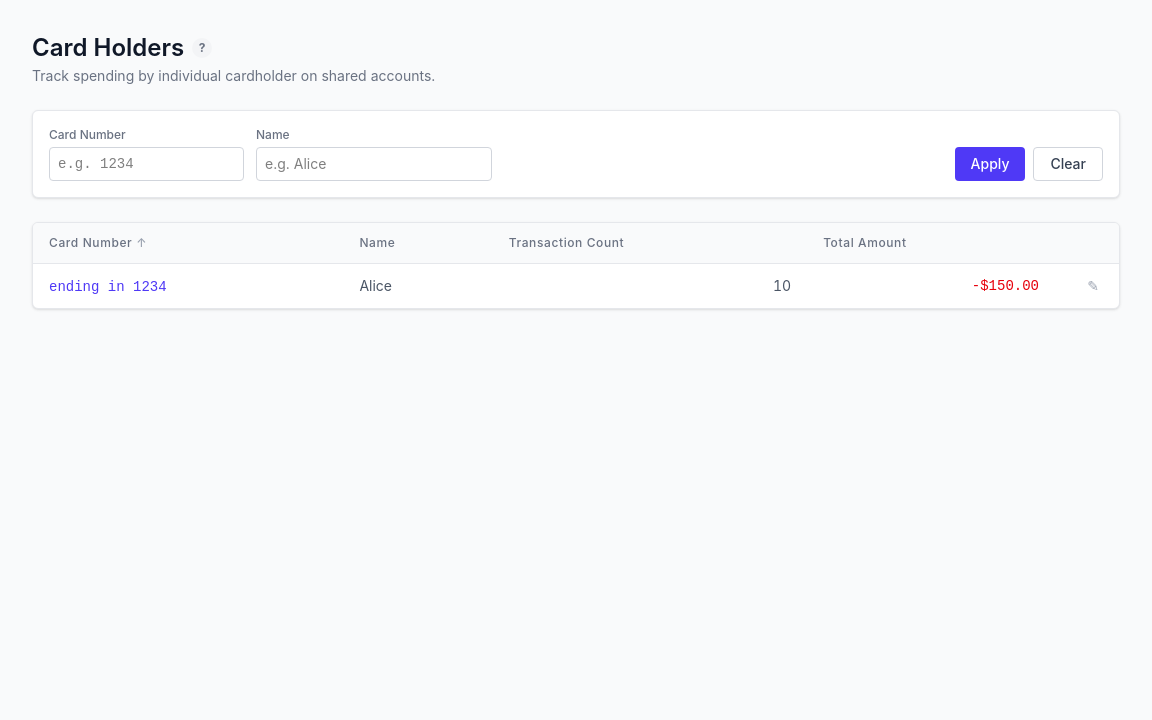
Test: CardHoldersPage › saves cardholder edit and updates row in list
Check: the button "ending in 1234" is shown, box [49,276,167,296]
Click the button titled "Edit card holder" at [1093, 286], box [1083,272,1103,300]
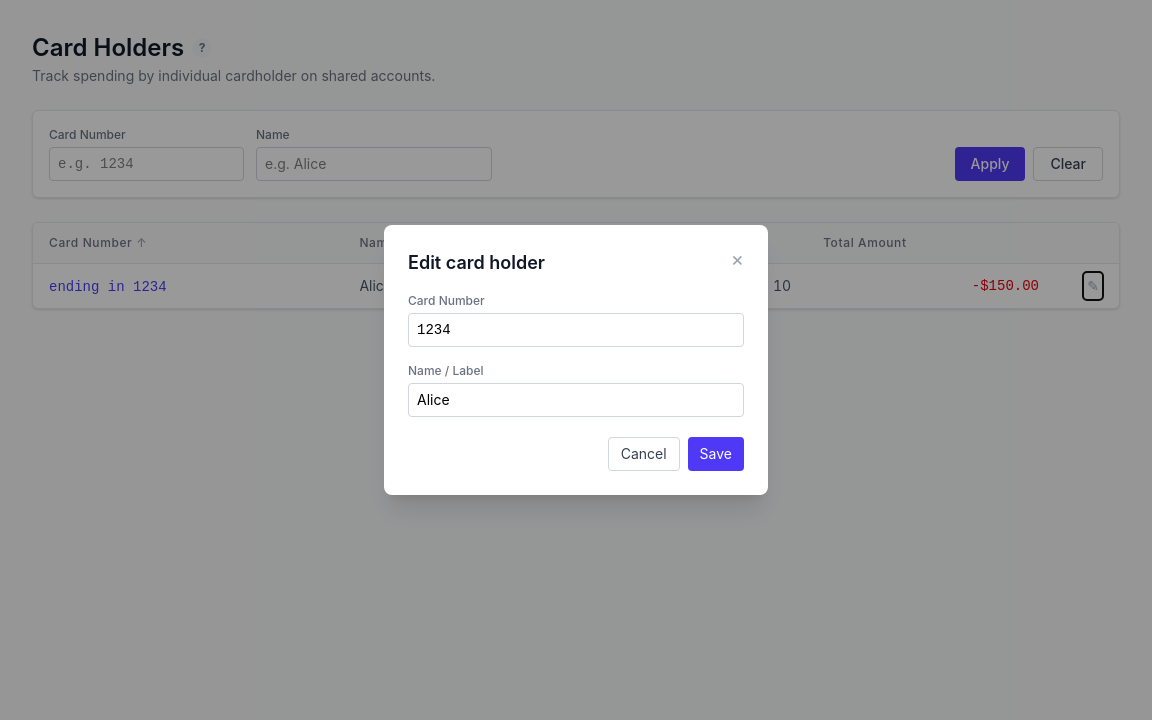
Replace the text in the field showing "Alice" below "Name / Label" with "Bob" at [576, 400], box [408,383,744,417]
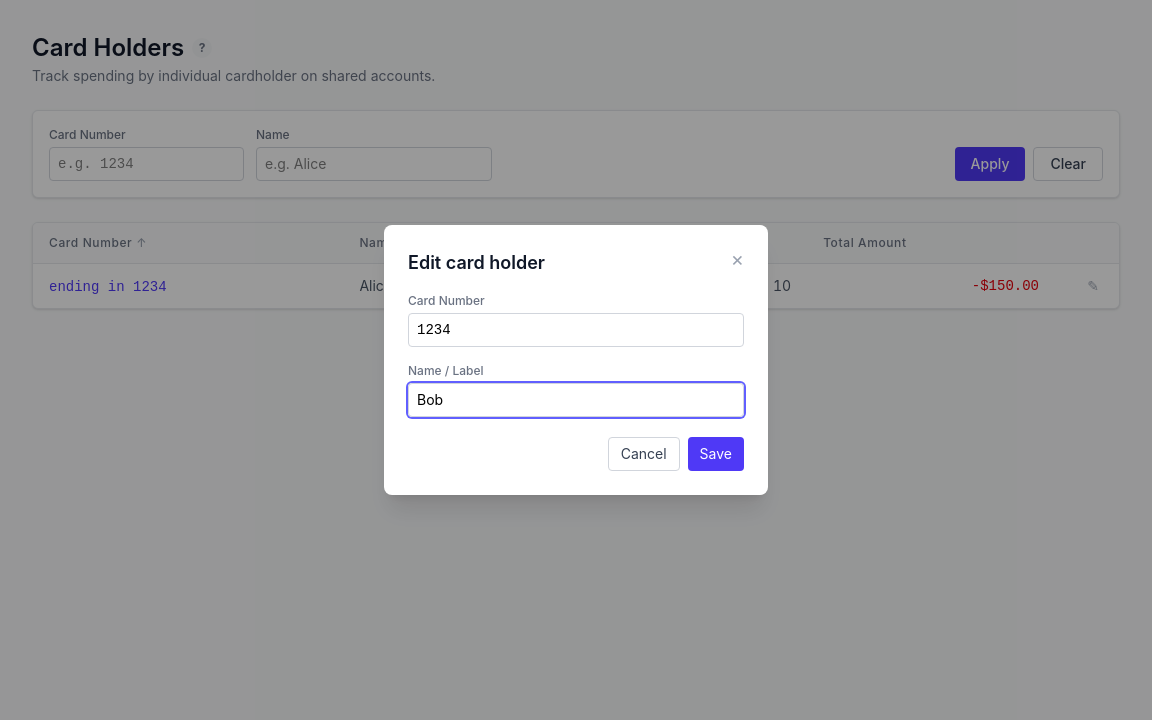
Click the button "Save" at [716, 454], box [688,437,744,471]
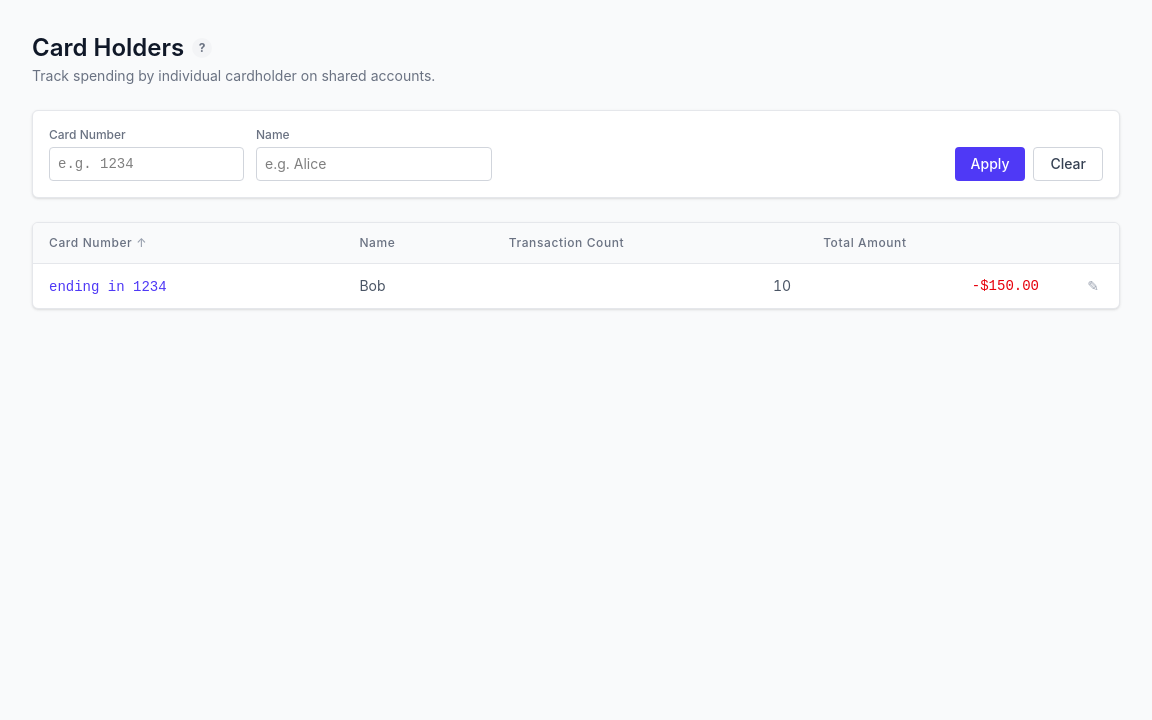
Check: the text "Bob" is shown, box [343,264,493,308]
